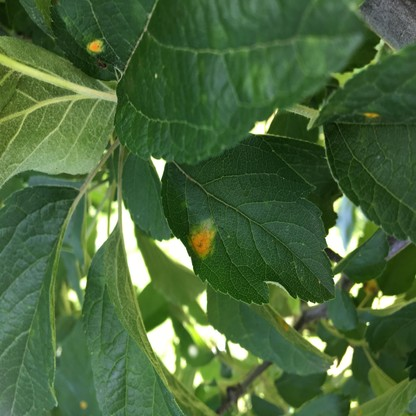rust: (189, 218, 218, 259), (88, 37, 105, 53), (362, 109, 378, 120)
